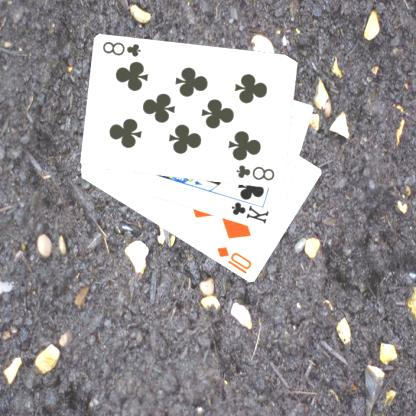10D: (216, 244, 254, 275)
8C: (236, 162, 278, 183), (102, 39, 144, 59)
KC: (230, 194, 272, 225)
